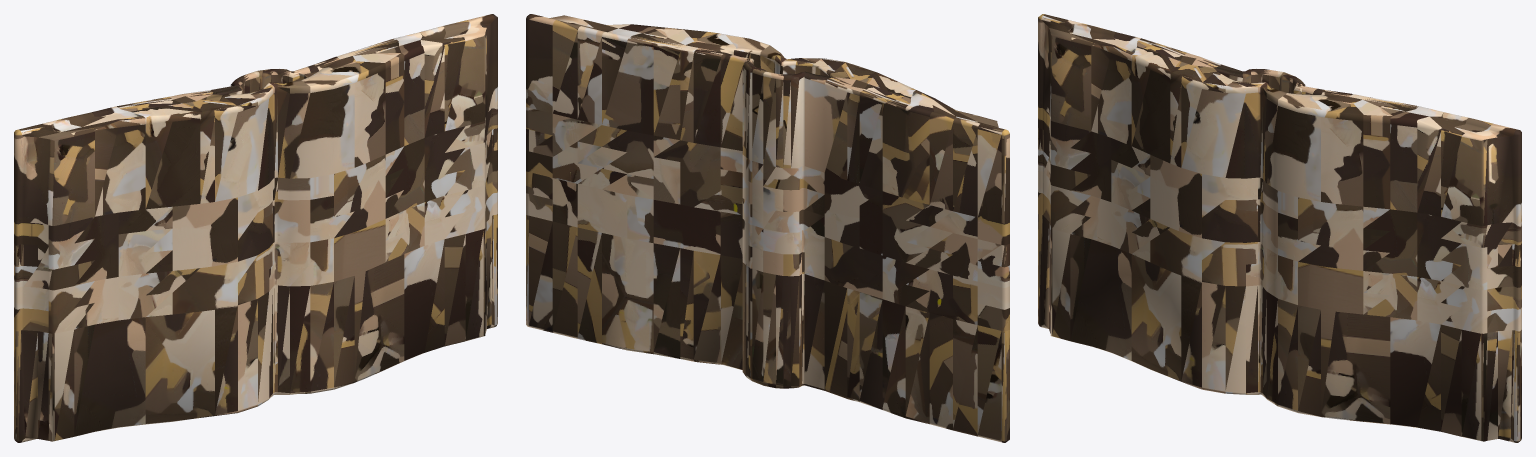
File: Book_Right.fbx
3 renders of one model, left to right at view 1: azimuth 30°, elevation 25°; view 2: azimuth 150°, elevation 25°; view 3: azimuth 330°, elevation 25°, orthographic.
Parts seen in each view (by area): view 1: Mesh_0.001, Mesh_0; view 2: Mesh_0.001, Mesh_0, Mesh_0.002; view 3: Mesh_0, Mesh_0.001.
Boxes of the visible parts, x1,y1,x2,y2 form: Mesh_0.001: (14,69,274,442); Mesh_0: (246,14,497,394); Mesh_0.001: (751,58,1009,442); Mesh_0: (526,14,796,380); Mesh_0.002: (745,50,767,379); Mesh_0: (1251,70,1521,442); Mesh_0.001: (1038,14,1292,394).
Size of the model in its own units: 191 by 118 by 22.31.
